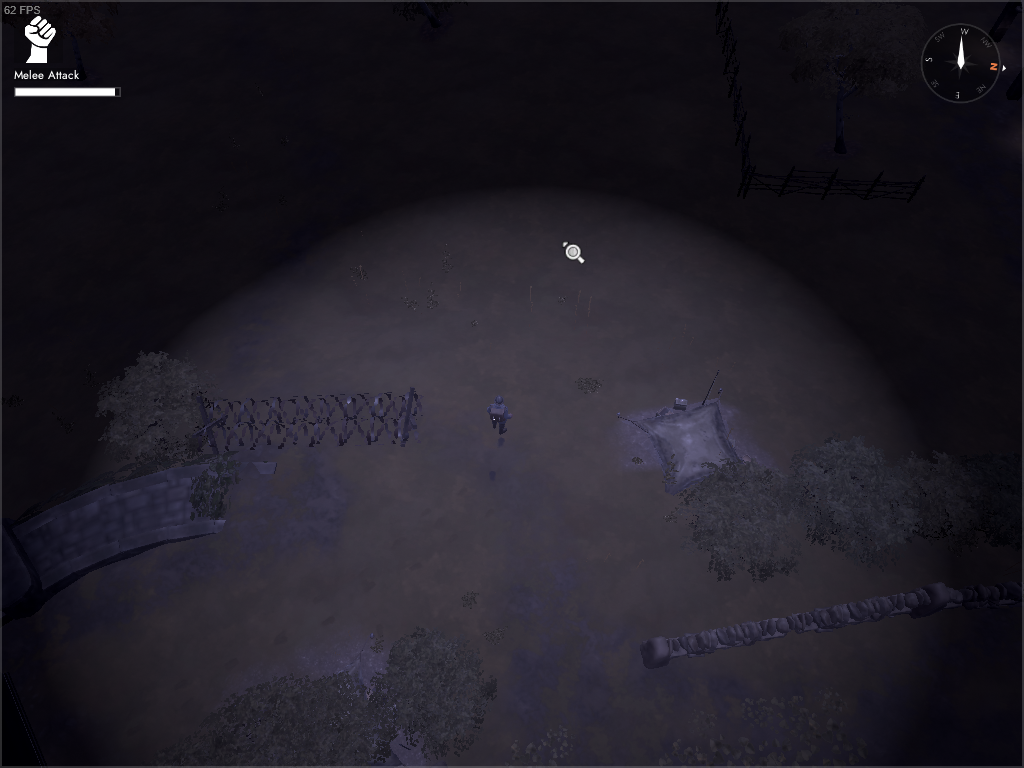foxhole: (618, 364, 768, 519)
player: (482, 392, 516, 439)
wire: (185, 379, 434, 470)
